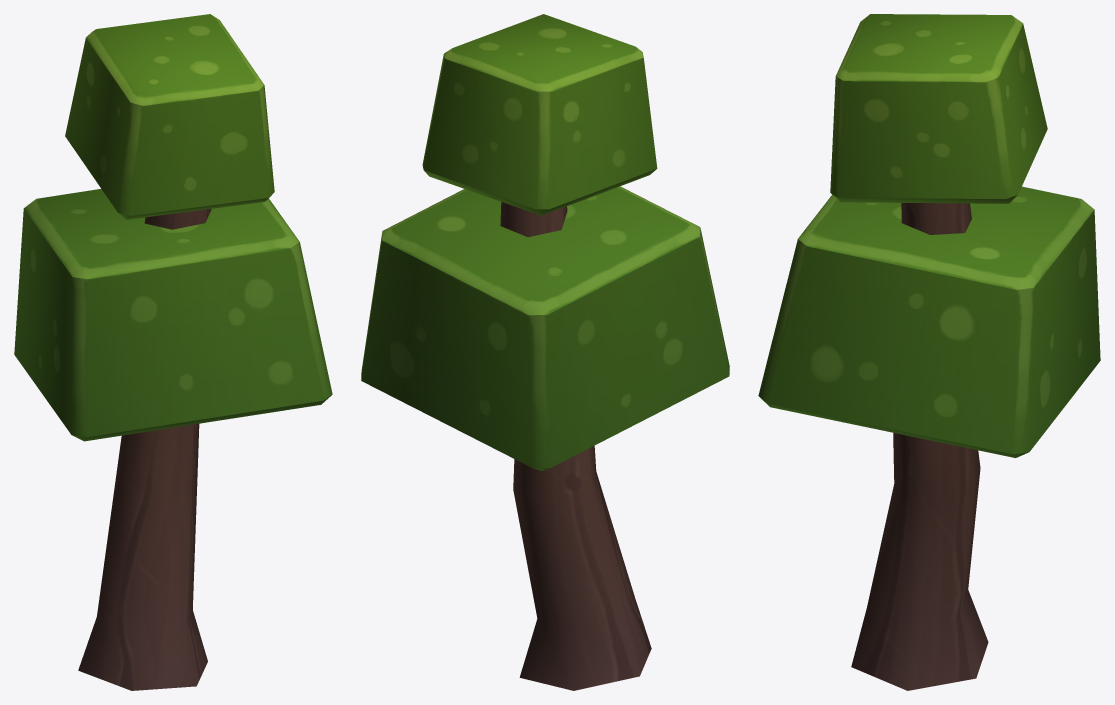
The model's file is forest_tree_05.fbx.
3 renders of one model, left to right at view 1: azimuth 30°, elevation 25°; view 2: azimuth 150°, elevation 25°; view 3: azimuth 270°, elevation 25°, orthographic. The views are drawn at different scales.
Visible parts, largest first — view 1: forest_tree_05; view 2: forest_tree_05; view 3: forest_tree_05.
Part boxes in pixels (left/top/right/bottom): forest_tree_05: left=14, top=14, right=332, bottom=690; forest_tree_05: left=361, top=14, right=729, bottom=690; forest_tree_05: left=758, top=14, right=1100, bottom=690.
Size of the model in its own units: 2.89 by 5.96 by 2.87.
